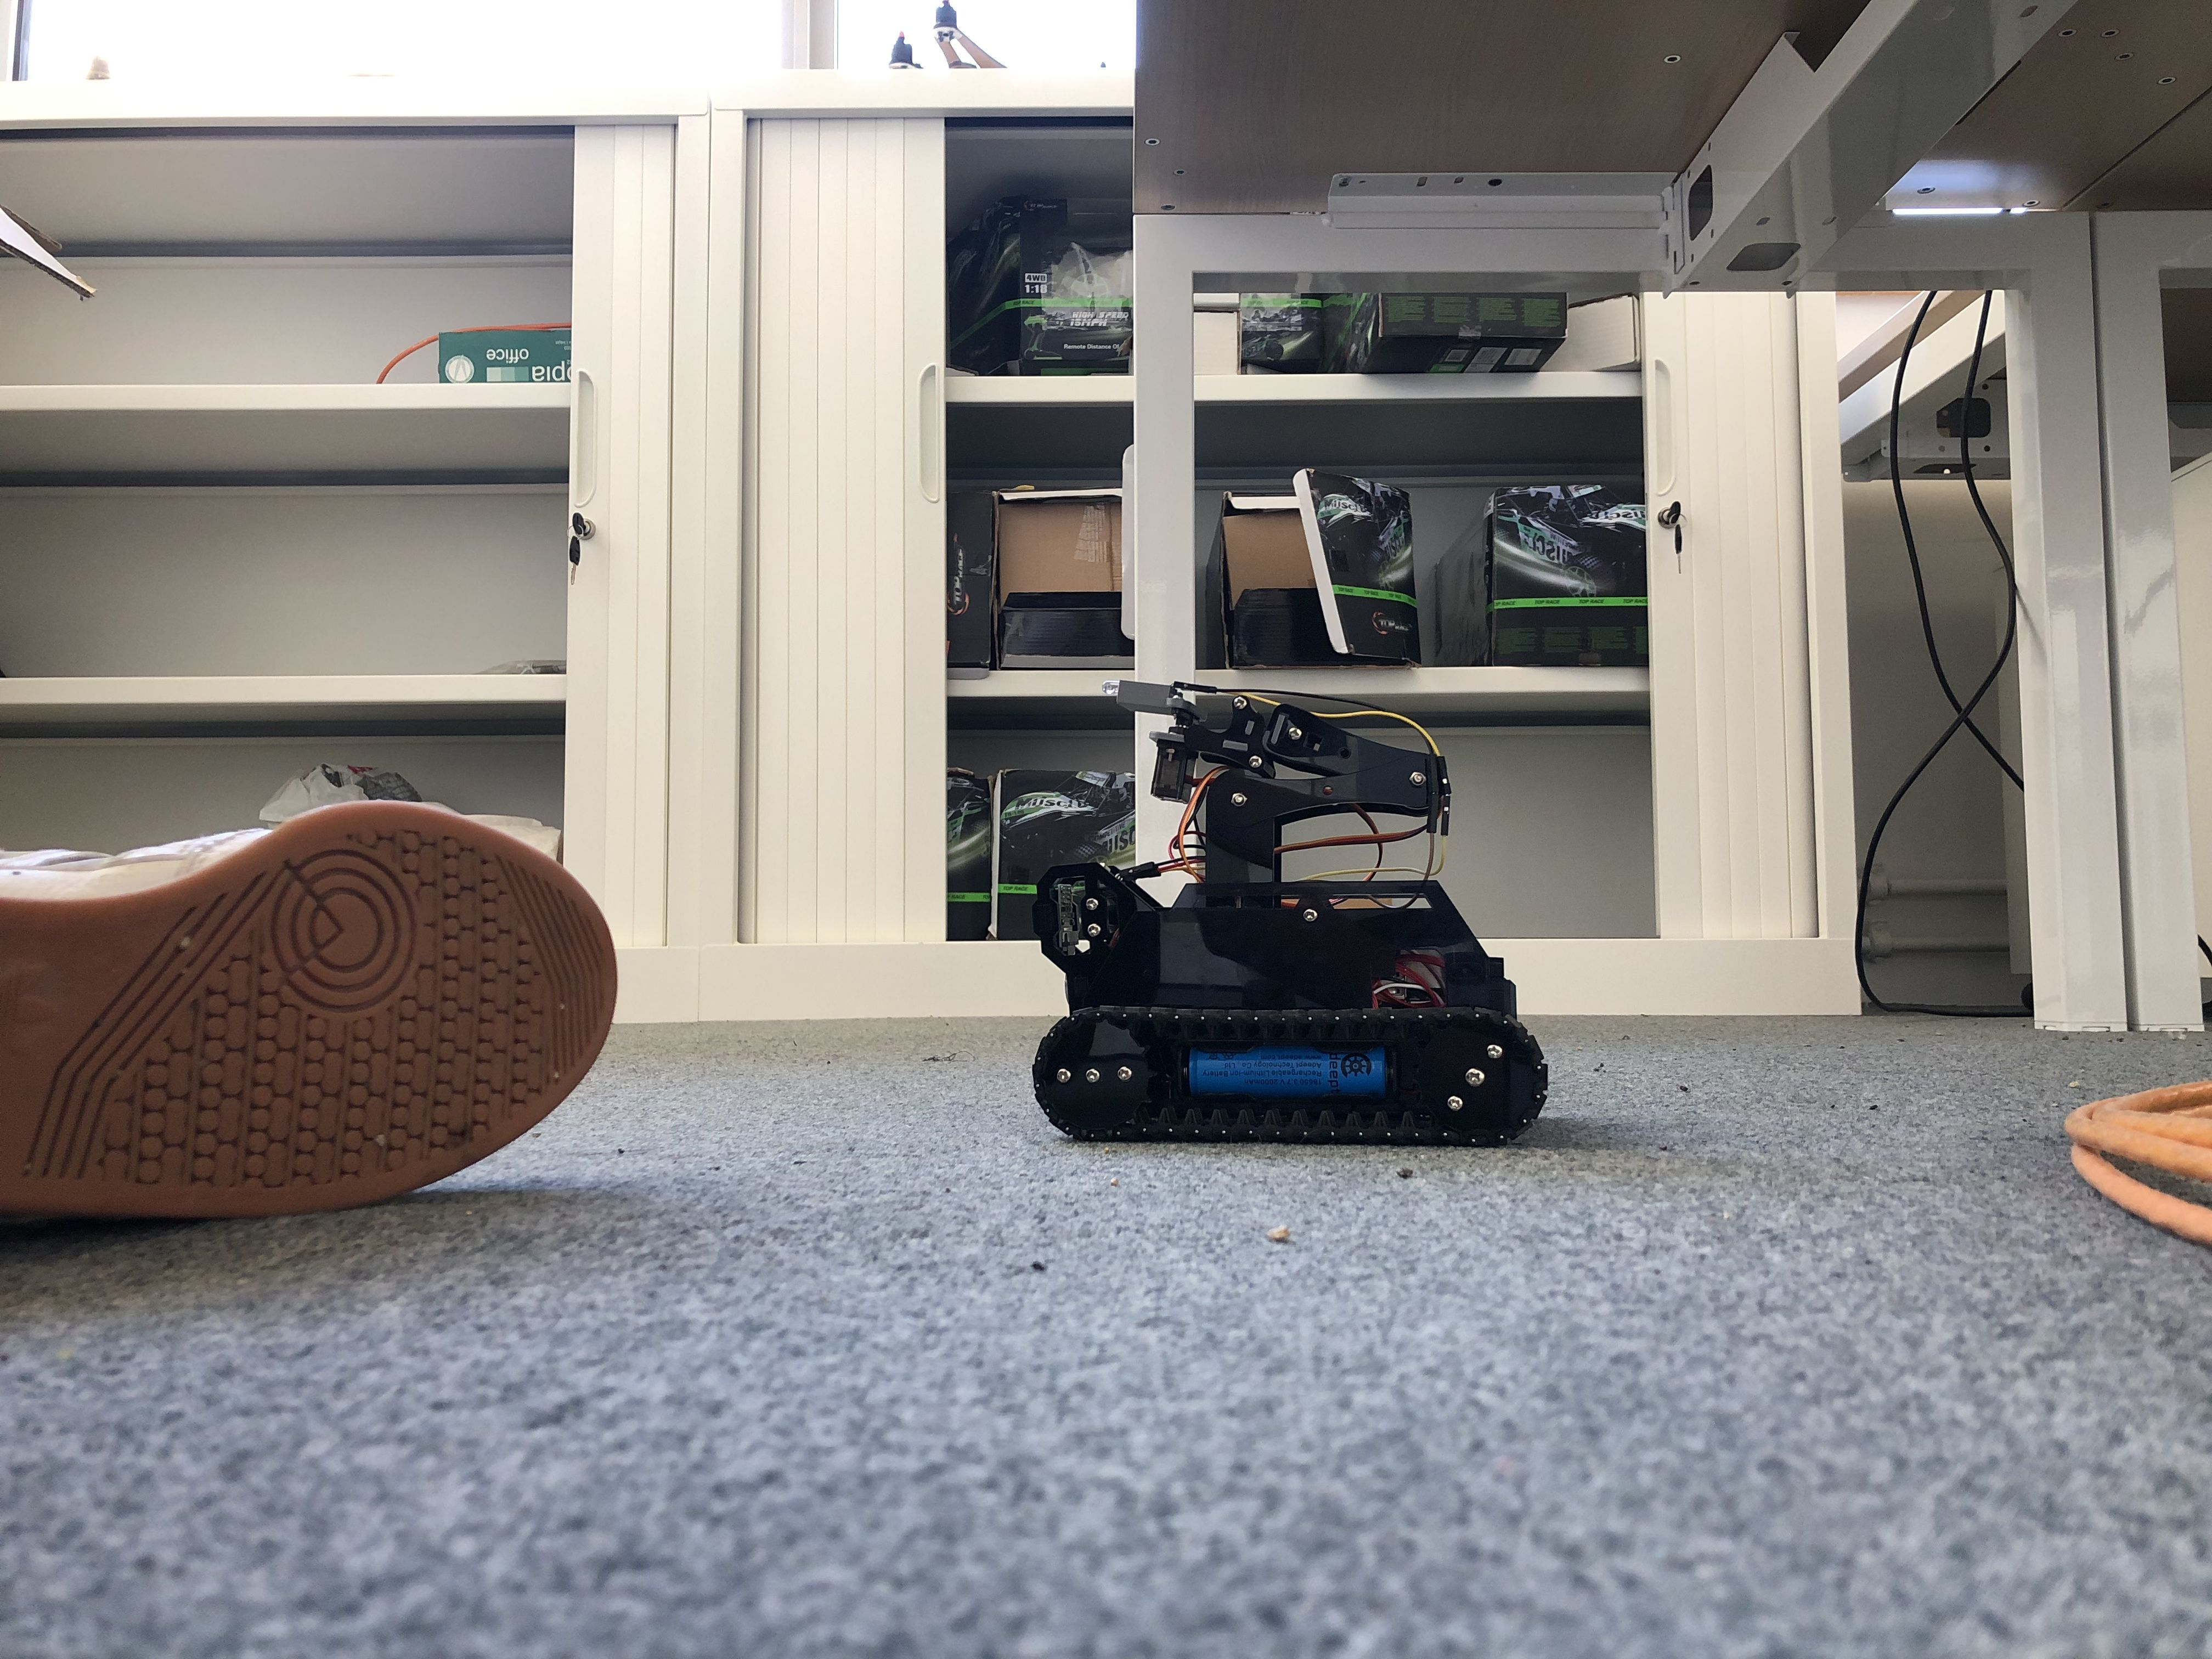rasptank: (1028, 674, 1566, 1148)
